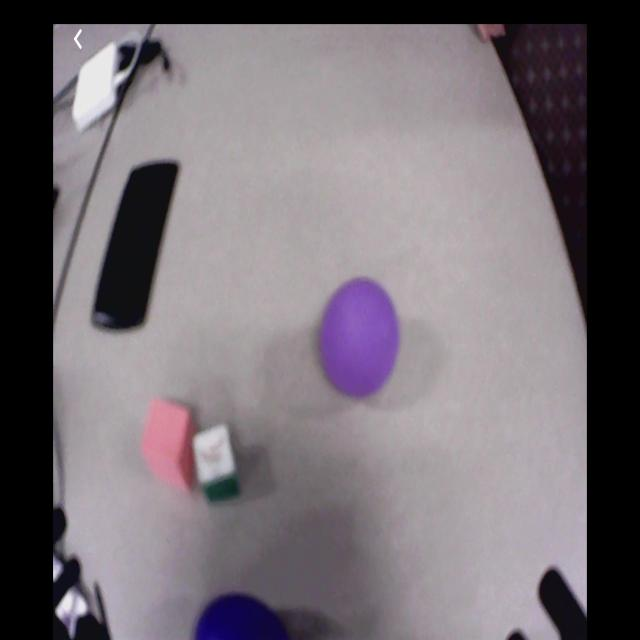ball: (319, 276, 401, 395), (195, 592, 288, 640)
